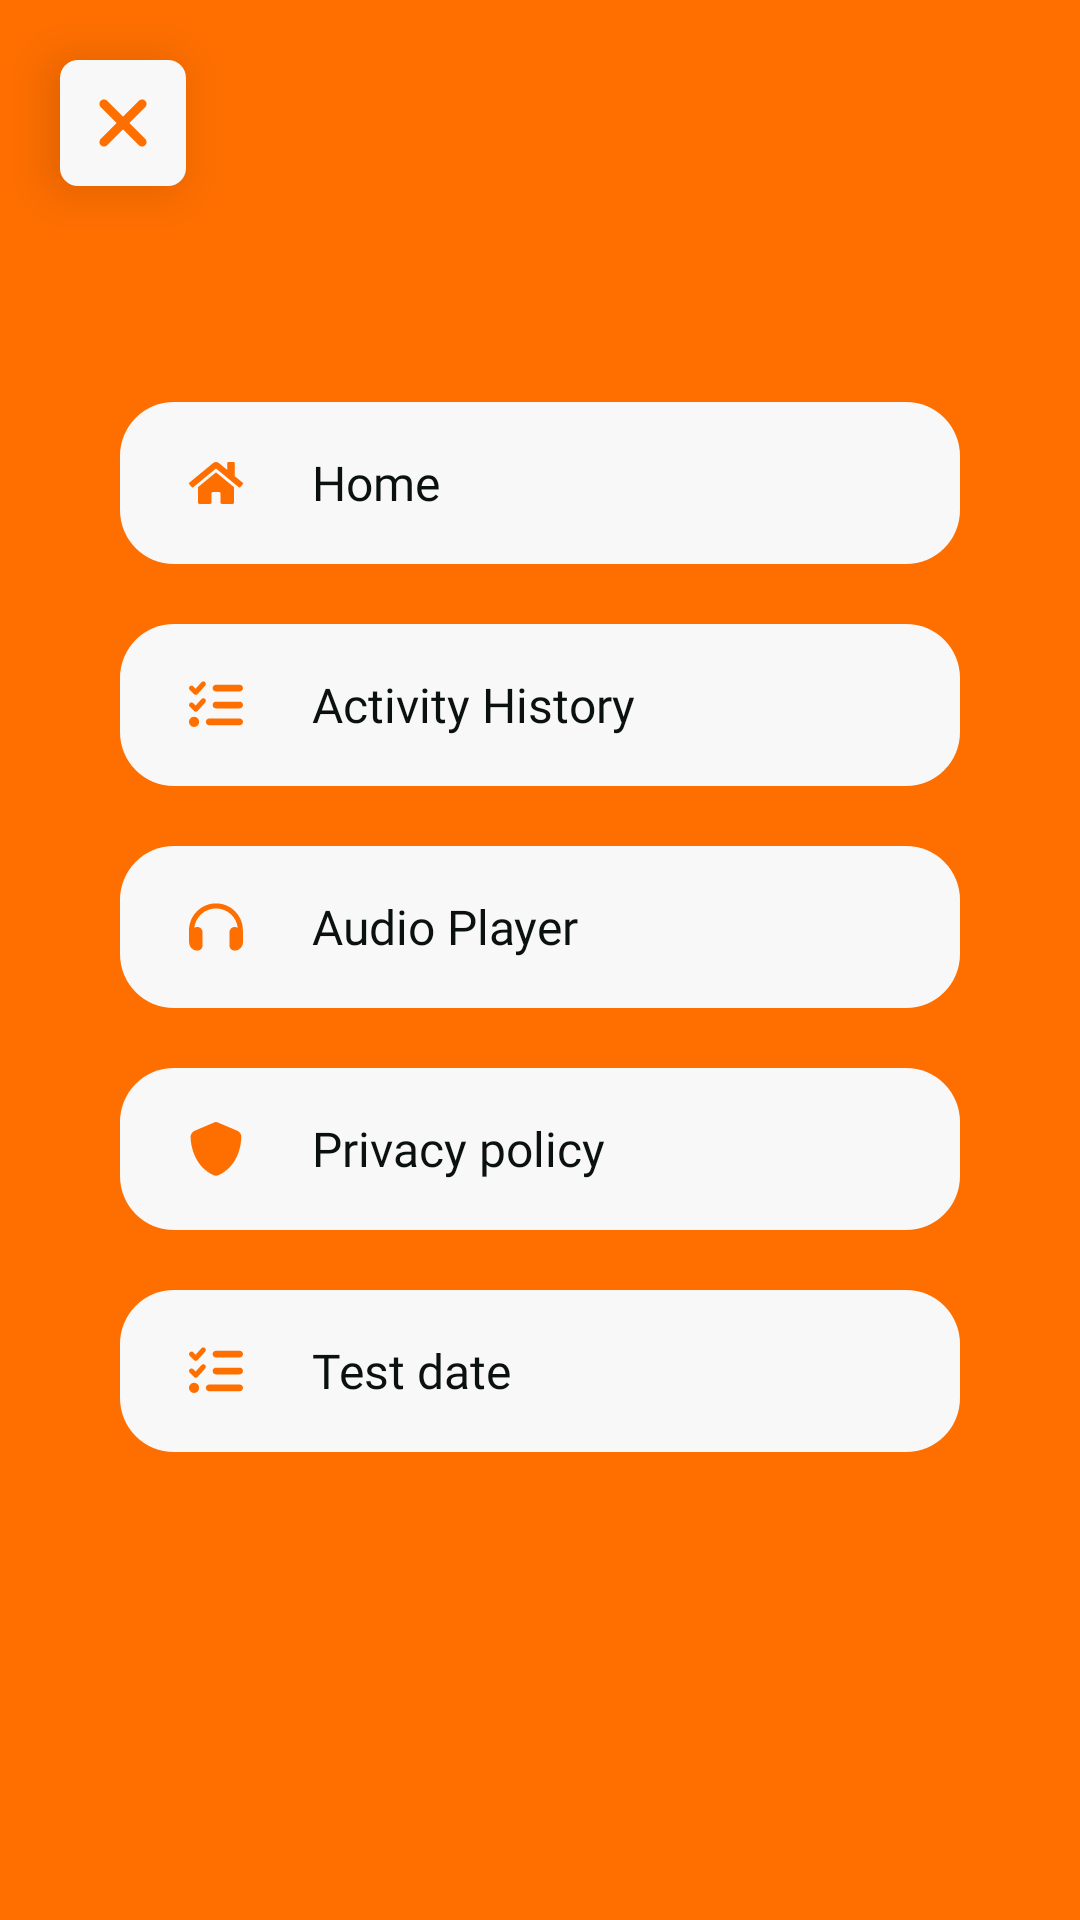

Screen size 1080x1920. Icon name, then its center in pixels as [x,y]:
close: [123,123]
tasks: [216,704], [216,1370]
